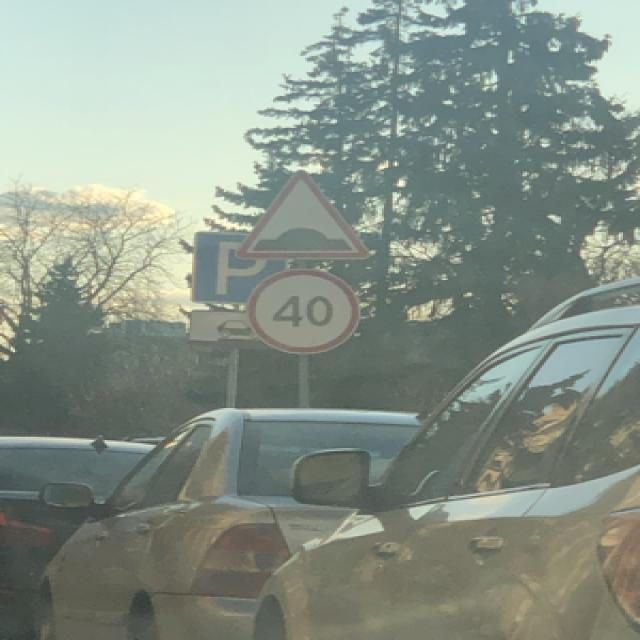speedlimit: (241, 267, 356, 352)
